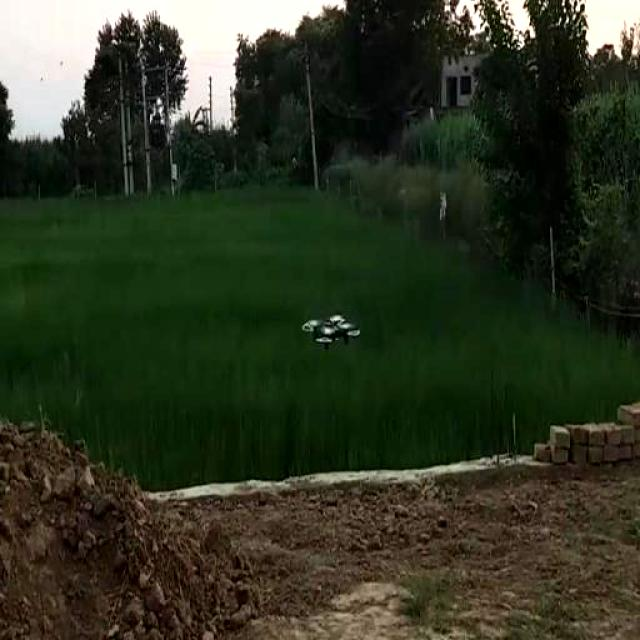bird: (294, 282, 365, 371)
